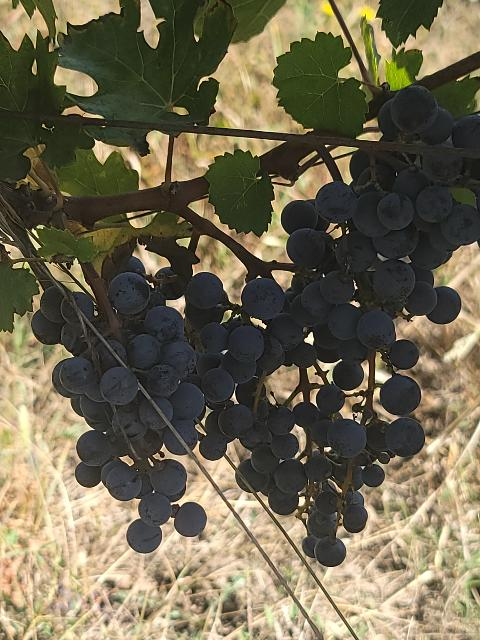grapes: (180, 185, 461, 566), (31, 272, 206, 552), (350, 151, 479, 266), (378, 85, 479, 150)
